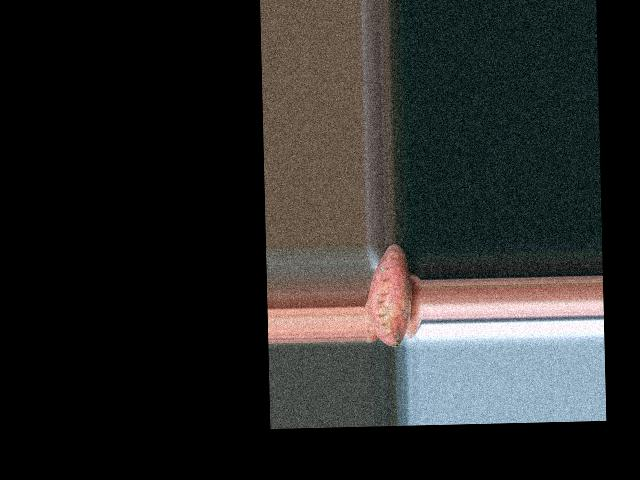sweet_potato: (369, 244, 408, 348)
